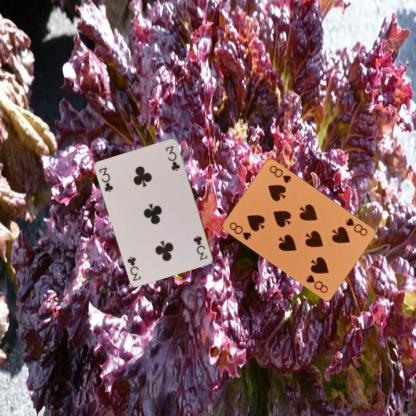3c: (96, 165, 114, 194), (191, 233, 209, 261)
8s: (226, 219, 252, 242), (342, 215, 368, 237)
